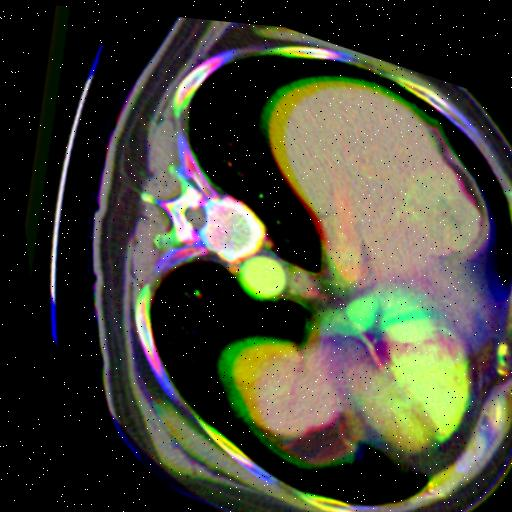Tumor: (404, 159, 477, 242)
